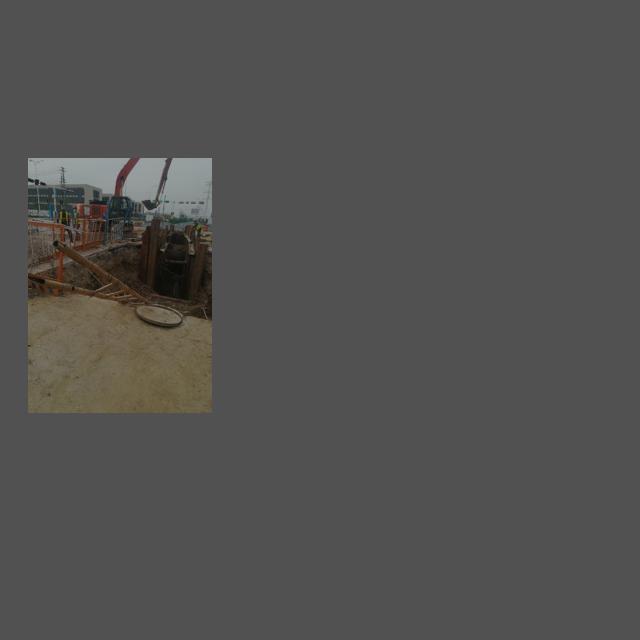uncovered: (136, 302, 188, 327)
